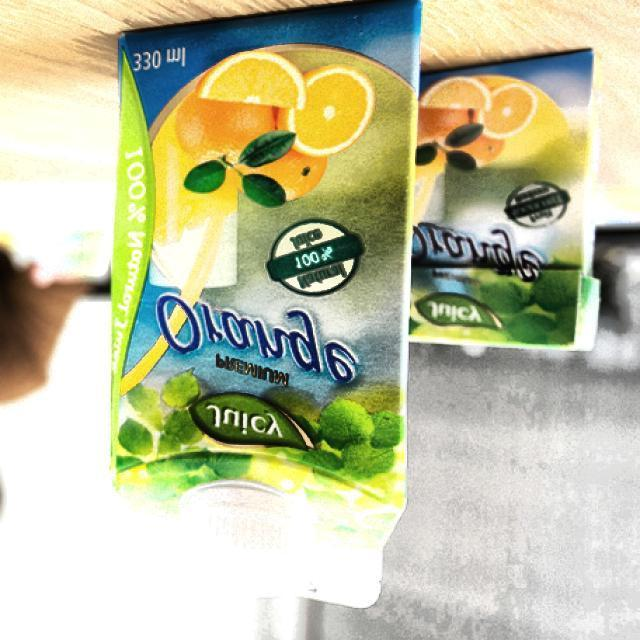cardboard: (106, 0, 422, 609)
